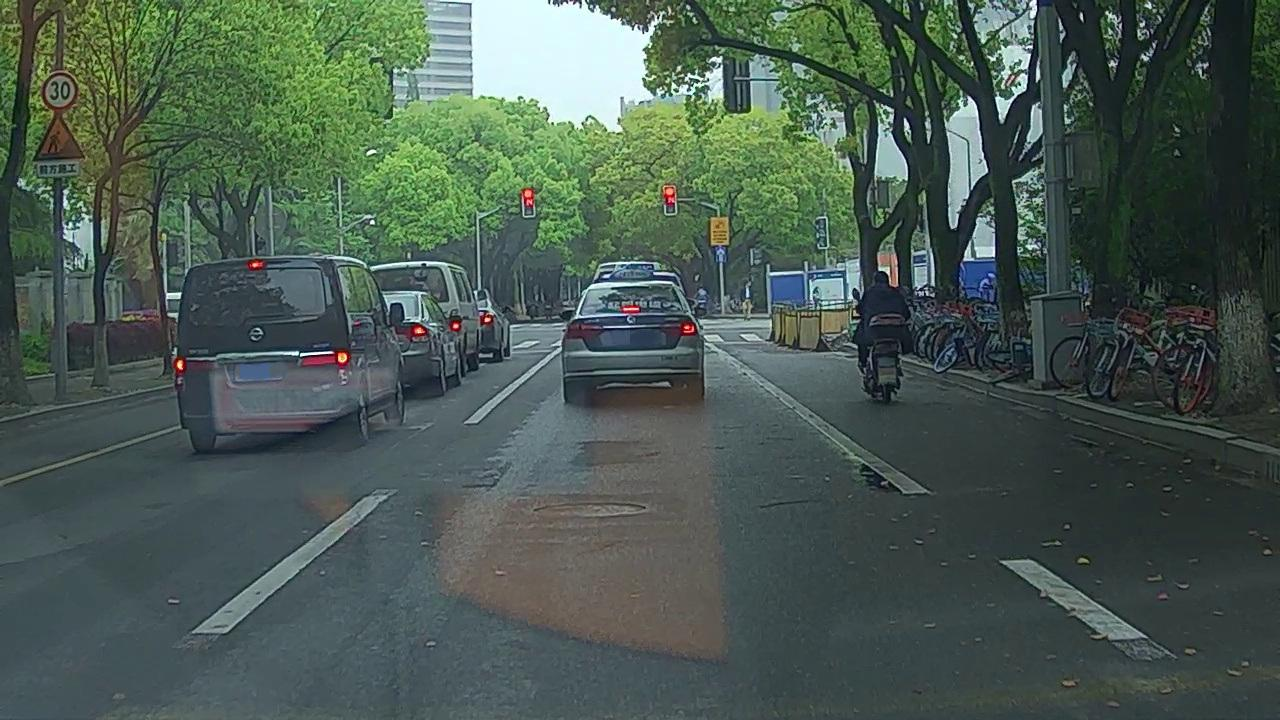traffic_light: (663, 185, 675, 215), (523, 189, 534, 218)
